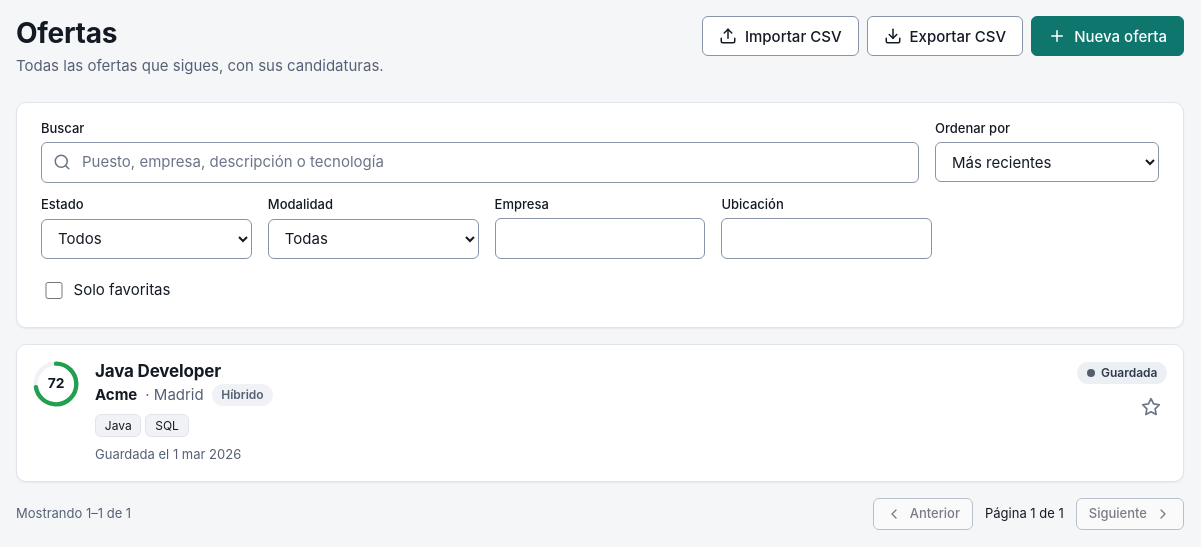
it: OfferListComponent › un filtro se aplica en el backend tras el debounce y se refleja en la URL
Select "Candidatura enviada" in the dropdown with id "f-status" at (146, 238), box top-left (41, 218), bottom-right (252, 258)
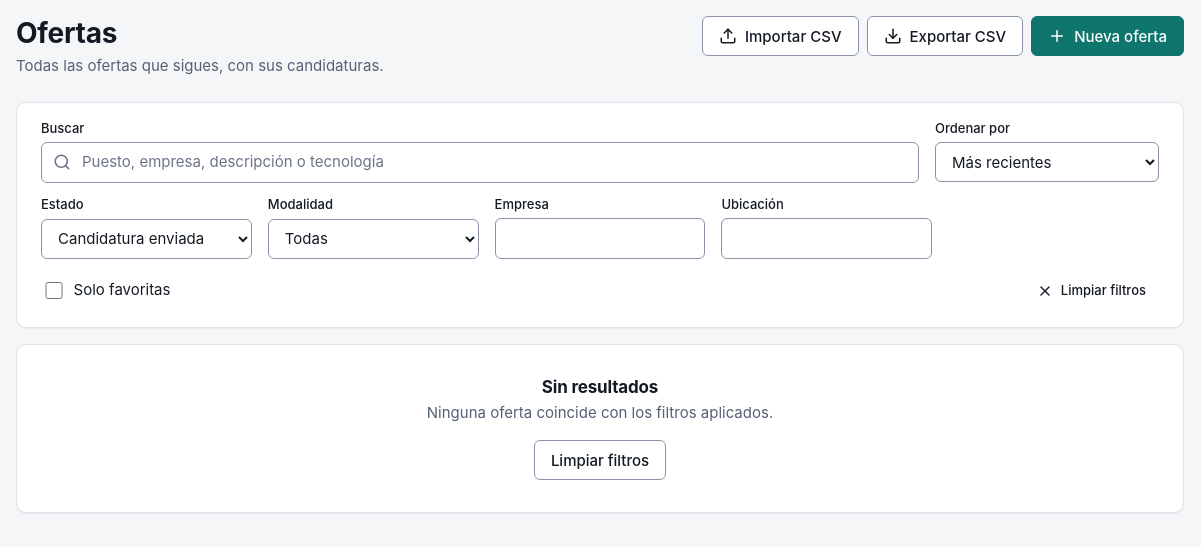
Check: the text "Sin resultados" is shown, box top-left (542, 376), bottom-right (658, 396)
Check: the text "Limpiar filtros" is shown, box top-left (1024, 274), bottom-right (1159, 306)
